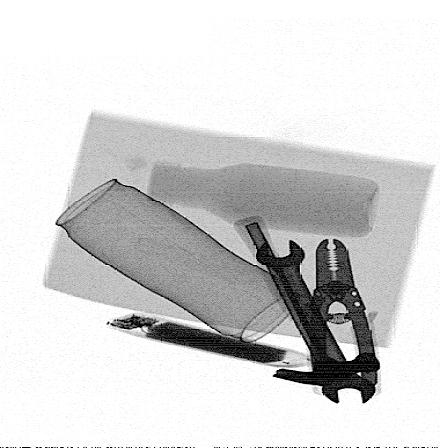Hammer: (234, 215, 382, 387)
Pliers: (306, 236, 381, 397)
Powerbank: (106, 311, 306, 367)
Wrench: (256, 239, 377, 404)
